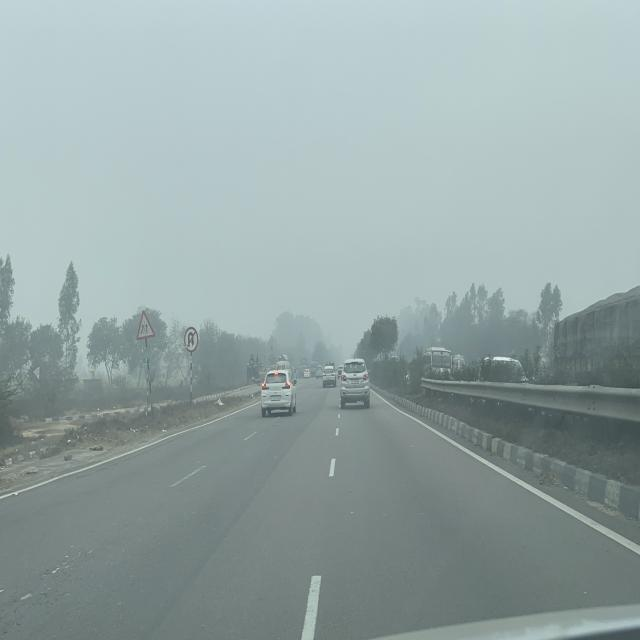U_TURN_PROHIBITED: (184, 327, 198, 353)
WARNING: (136, 310, 156, 341)
